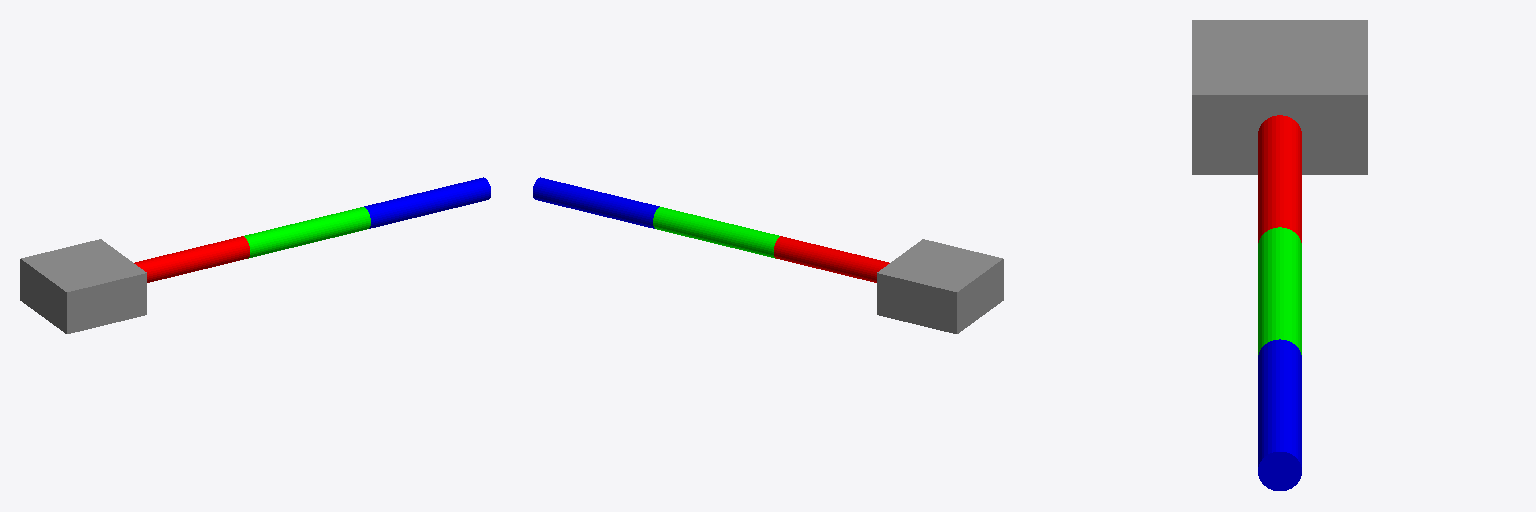
robot.urdf — three_link_arm_flat:
<?xml version="1.0"?>
<robot name="three_link_arm_flat">
  <!-- Used to give the base a prismatic connection to the world (fixed except in y direction) -->
  <link name="world"/>
  <!-- 1 DOF base (joint will be added at bottom)-->
  <link name="base_link">
    <visual>
      <geometry>
        <box size="0.4 0.4 0.2"/>
      </geometry>

      <origin xyz="0 0 0"/>

      <material name="grey">
        <color rgba="0.6 0.6 0.6 1"/>
      </material>
      
    </visual>
    
    <collision>
      <geometry>
        <box size="0.4 0.4 0.2"/>
      </geometry>

      <origin xyz="0 0 0"/>

    </collision>

    <inertial>
      <origin xyz="0 0 0" rpy="0 0 0"/>

      <mass value="1.0"/>

      <inertia ixx="0.001" ixy="0.0" ixz="0.0" iyy="0.001" iyz="0.0" izz="0.001"/>

    </inertial>

  </link>

  <!-- Link 1 -->
  <link name="link1">
    <visual>
      <geometry>
        <cylinder radius="0.05" length="0.6"/>
      </geometry>
      <!-- Rotate cylinder so it lies along X-axis -->
      <origin xyz="0.3 0 0" rpy="0 1.5708 0"/>

      <material name="red">
        <color rgba="1 0 0 1"/>
      </material>

    </visual>

    <collision>
      <geometry>
        <cylinder radius="0.05" length="0.6"/>
      </geometry>
      
      <origin xyz="0.3 0 0" rpy="0 1.5708 0"/>

    </collision>

    <inertial>
      <origin xyz="0 0 0" rpy="0 0 0"/>
      <mass value="1.0"/>
      <inertia ixx="0.001" ixy="0.0" ixz="0.0" iyy="0.001" iyz="0.0" izz="0.001"/>
    </inertial>
  </link>

  <!-- Link 2 -->
  <link name="link2">
    <visual>
      <geometry>
        <cylinder radius="0.05" length="0.6"/>
      </geometry>

      <origin xyz="0.3 0 0" rpy="0 1.5708 0"/>

      <material name="green">
        <color rgba="0 1 0 1"/>
      </material>

    </visual>

    <collision>
      <geometry>
        <cylinder radius="0.05" length="0.6"/>
      </geometry>

      <origin xyz="0.3 0 0" rpy="0 1.5708 0"/>

    </collision>

    <inertial>
      <origin xyz="0 0 0" rpy="0 0 0"/>
      <mass value="1.0"/>
      <inertia ixx="0.001" ixy="0.0" ixz="0.0" iyy="0.001" iyz="0.0" izz="0.001"/>
    </inertial>
  </link>

  <!-- Link 3 -->
  <link name="link3">
    <visual>
      <geometry>
        <cylinder radius="0.05" length="0.6"/>
      </geometry>

      <origin xyz="0.3 0 0" rpy="0 1.5708 0"/>

      <material name="blue">
        <color rgba="0 0 1 1"/>
      </material>

    </visual>

    <collision>
      <geometry>
        <cylinder radius="0.05" length="0.6"/>
      </geometry>

      <origin xyz="0.3 0 0" rpy="0 1.5708 0"/>
      
    </collision>

    <inertial>
      <origin xyz="0 0 0" rpy="0 0 0"/>
      <mass value="1.0"/>
      <inertia ixx="0.001" ixy="0.0" ixz="0.0" iyy="0.001" iyz="0.0" izz="0.001"/>
    </inertial>

  </link>

  <!-- Prismatic joints -->
  <joint name="world_to_base" type="prismatic">
    <parent link="world"/>
    <child link="base_link"/>
    <origin xyz="0 0 0"/>
    <axis xyz="0 1 0"/> <!-- movement along Y -->
    <limit lower="-5.0" upper="5.0" effort="50" velocity="1.0"/>
  </joint>

  <!-- Revolute joints -->
  <joint name="joint1" type="revolute">
    <parent link="base_link"/>
    <child link="link1"/>
    <origin xyz="0.2 0 0"/>
    <axis xyz="0 0 1"/>
    <limit effort="5" velocity="2" lower="-1.57" upper="1.57"/>
  </joint>

  <joint name="joint2" type="revolute">
    <parent link="link1"/>
    <child link="link2"/>
    <origin xyz="0.6 0 0"/>
    <axis xyz="0 0 1"/>
    <limit effort="5" velocity="2" lower="-1.57" upper="1.57"/>
  </joint>

  <joint name="joint3" type="revolute">
    <parent link="link2"/>
    <child link="link3"/>
    <origin xyz="0.6 0 0"/>
    <axis xyz="0 0 1"/>
    <limit effort="5" velocity="2" lower="-1.57" upper="1.57"/>
  </joint>


  <ros2_control name="GazeboSimSystem" type="system">
    <hardware>
     <plugin>gz_ros2_control/GazeboSimSystem</plugin>
   </hardware>
   <joint name="world_to_base">
      <command_interface name="position"/>
      <state_interface name="position"/>
      <state_interface name="velocity"/>
   </joint>

   <joint name="joint1">
      <command_interface name="effort">
        <param name="min">-1000</param>
        <param name="max">1000</param>
      </command_interface>
      <state_interface name="position">
        <param name="initial_value">1.5</param>
      </state_interface>
      <state_interface name="velocity"/>
      <!-- <state_interface name="acceleration"/> -->

   </joint>

   <joint name="joint2">
     <command_interface name="effort"/>
     <state_interface name="position">
        <param name="initial_value">-1.5</param>
     </state_interface>
     <state_interface name="velocity"/>
     <!-- <state_interface name="acceleration"/> -->
   </joint>

    <joint name="joint3">
     <command_interface name="effort"/>
     <state_interface name="position"/>
     <state_interface name="velocity"/>
     <!-- <state_interface name="acceleration"/> -->
    </joint>
  </ros2_control>
<gazebo>
  <plugin filename="/opt/ros/jazzy/lib/libgz_ros2_control-system.so" name="gz_ros2_control::GazeboSimROS2ControlPlugin">
    <parameters>[local-path]/Desktop/Skyforge/src/skyforge_controllers/config/three_link_arm_controllers.yaml</parameters>
  </plugin>
</gazebo>
<!-- ROS2 Control interface -->
  <!-- <ros2_control name="ThreeLinkArmSystem" type="system">
    <hardware>
      <plugin>mock_components/GenericSystem</plugin>
      <param name="loop_hz">100</param>
      <param name="joint_read_rate">50</param>
      <param name="fake_sensor_commands">true</param>
    </hardware>

    <joint name="joint1">
      <command_interface name="position"/>
      <state_interface name="position"/>
      <state_interface name="velocity"/>
    </joint>

    <joint name="joint2">
      <command_interface name="position"/>
      <state_interface name="position"/>
      <state_interface name="velocity"/>
    </joint>

    <joint name="joint3">
      <command_interface name="position"/>
      <state_interface name="position"/>
      <state_interface name="velocity"/>
      <command_interface name="position"/>
      <state_interface name="position"/>
      <state_interface name="velocity"/>
    </joint>
      <command_interface name="position"/>
      <command_interface name="position"/>
      <state_interface name="position"/>
      <state_interface name="velocity"/>
    </joint>
  </ros2_control> -->
<!-- <ros2_control name="SkyforgeSystem" type="system">
      <command_interface name="position"/>
      <state_interface name="position"/>
      <state_interface name="velocity"/>
    </joint>
  </ros2_control> -->
<!-- <ros2_control name="SkyforgeSystem" type="system">
      <state_interface name="position"/>
      <state_interface name="velocity"/>
    </joint>
  </ros2_control> -->
<!-- <ros2_control name="SkyforgeSystem" type="system">
  </ros2_control> -->
<!-- <ros2_control name="SkyforgeSystem" type="system">
    </joint>
  </ros2_control> -->
<!-- <ros2_control name="SkyforgeSystem" type="system">
  <hardware>
    <plugin name="skyforge_system" type="gz_ros2_control/Ga
      <command_interface name="position"/>
      <state_interface name="position"/>
      <state_interface name="velocity"/>
    </joint>
  </ros2_control> -->
<!-- <ros2_control name="SkyforgeSystem" type="system">zeboSimSystem"/>
  </hardware>

  <joint name="joint1">
    <command_interface name="effort"/>
    <state_interface name="position"/>
    <state_interface name="velocity"/>
  </joint>

  <joint name="joint2">
    <command_interface name="effort"/>
    <state_interface name="position"/>
    <state_interface name="velocity"/>
  </joint>
  <joint name="joint3">
    <command_interface name="effort"/>
    <state_interface name="position"/>
    <state_interface name="velocity"/>
  </joint>
</ros2_control> -->
  <!-- Gazebo linkage -->
  <!-- <gazebo> -->
    <!-- <plugin name="gz_ros2_control::GazeboSimROS2ControlPlugin" filename="libgz_ros2_control-system.so"> -->
      <!-- This points to the controller YAML, which is in a different package than the description here -->
      <!-- <parameters>[local-path]/Desktop/Skyforge/src/skyforge_controllers/config/three_link_arm_controllers.yaml</parameters> -->
    <!-- </plugin> -->
  <!-- </gazebo> -->


</robot>

--- Render facts (derived) ---
Views: 3 orthographic renders of the robot side by side, from view 1: azimuth 30°, elevation 25°; view 2: azimuth 150°, elevation 25°; view 3: azimuth 270°, elevation 25°.
Model three_link_arm_flat with 5 links and 4 joints (3 revolute, 1 prismatic), rooted at world, posed all joints at 0.
Visible links, largest first — view 1: base_link, link2, link3, link1; view 2: base_link, link2, link3, link1; view 3: base_link, link3, link1, link2.
Boxes of the visible links, <box> form: base_link: <box>20,239,146,333</box>; link2: <box>244,207,370,258</box>; link3: <box>364,177,490,228</box>; link1: <box>134,236,249,282</box>; base_link: <box>877,239,1003,333</box>; link2: <box>653,207,779,258</box>; link3: <box>533,177,659,228</box>; link1: <box>774,236,889,282</box>; base_link: <box>1192,20,1367,174</box>; link3: <box>1258,339,1301,490</box>; link1: <box>1258,115,1301,242</box>; link2: <box>1258,227,1301,354</box>.
Bounding box of the posed robot: 2.2 × 0.4 × 0.2 m (x, y, z).
Geometry: primitives only (box / cylinder / sphere), no mesh files.
